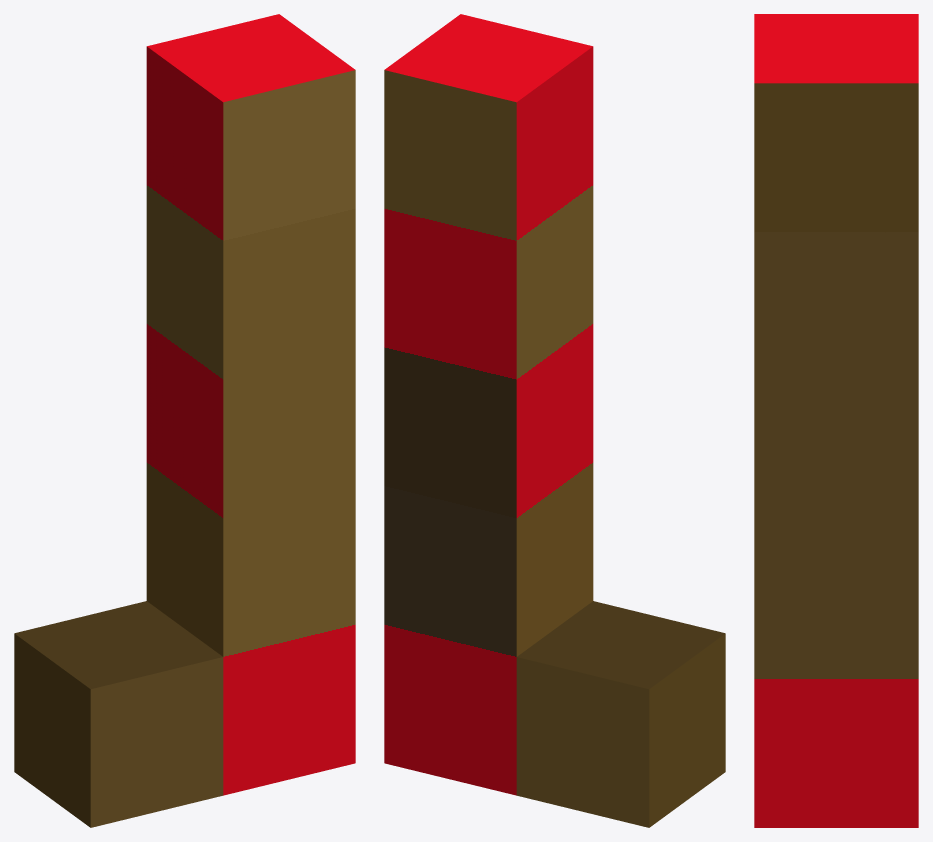
3 views of the same model, side by side, from view 1: azimuth 30°, elevation 25°; view 2: azimuth 150°, elevation 25°; view 3: azimuth 270°, elevation 25° (orthographic). The views are drawn at different scales.
Visible parts, largest first — view 1: cube; view 2: cube; view 3: cube.
Part boxes in pixels (x1,y1,x2,y2): cube: (14,14,355,827); cube: (384,14,725,827); cube: (754,14,918,827).
Size of the model in its own units: 0.125 by 0.3125 by 0.0625.
